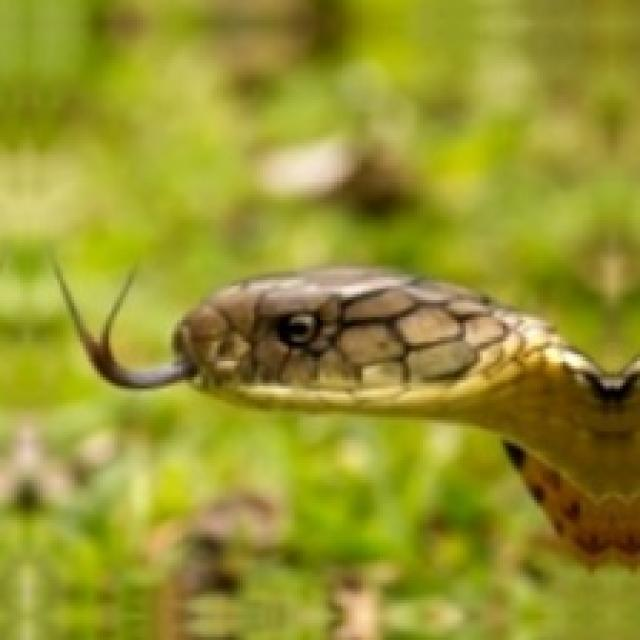king cobra: (54, 263, 637, 560)
